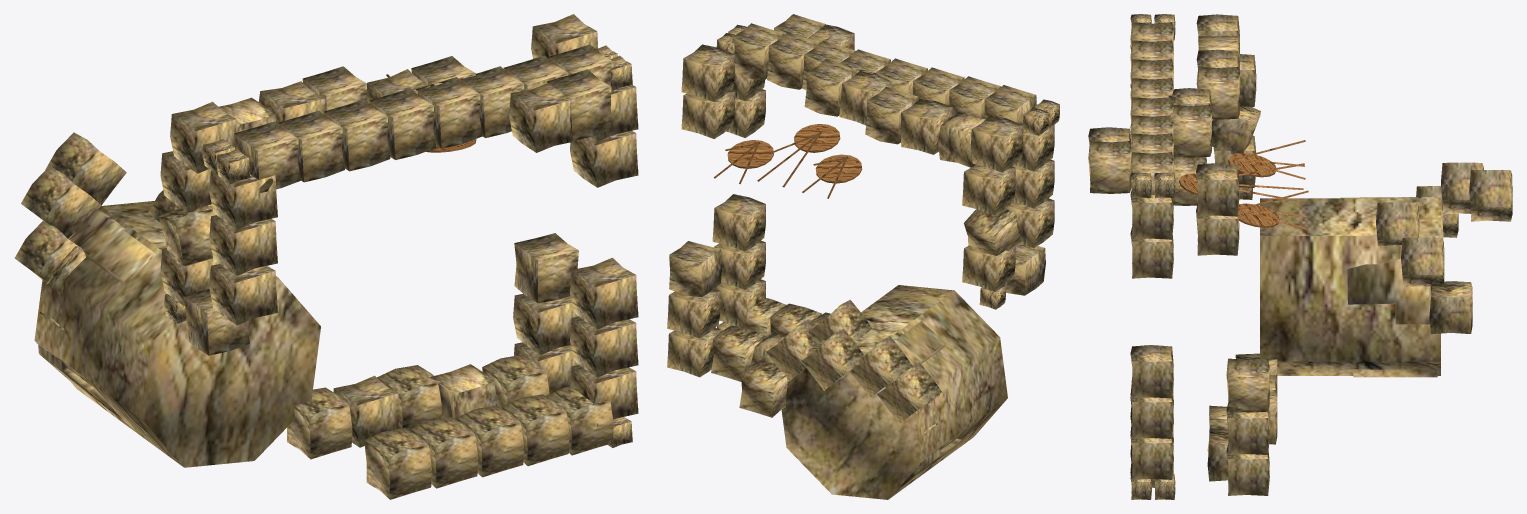
File: archery_000008.obj
The picture shows the model from 3 angles, left to right: view 1: azimuth 30°, elevation 25°; view 2: azimuth 150°, elevation 25°; view 3: azimuth 270°, elevation 25°; orthographic projection. The views are drawn at different scales.
Visible parts, largest first — view 1: Cylinder.003, Cylinder.054_Cylinder.062, Cylinder.053_Cylinder.061, Cylinder.000, Cylinder.018, Cylinder.013, Cylinder.035, Cylinder.010, Cylinder.046_Cylinder.052, Cylinder.019, Cylinder.001, Cylinder.002 (+34 smaller); view 2: Cylinder.003, Cylinder.054_Cylinder.062, Cylinder.055_Cylinder.063, Cylinder.013, Cylinder.018, Cylinder.014, Cylinder.043_Cylinder.049, Cylinder.042_Cylinder.048, Cylinder.027, Cylinder.012, Cylinder.044_Cylinder.050, Cylinder.006 (+34 smaller); view 3: Cylinder.003, Cylinder.055_Cylinder.063, Cylinder.053_Cylinder.061, Cylinder.054_Cylinder.062, Cylinder.013, Cylinder.014, Cylinder.034, Cylinder.018, Cylinder.030, Cylinder.012, Cylinder.028, Cylinder.016 (+28 smaller).
Boxes of the visible parts, left/top/right/bottom form: Cylinder.003: left=34, top=201, right=320, bottom=467; Cylinder.054_Cylinder.062: left=14, top=132, right=126, bottom=293; Cylinder.053_Cylinder.061: left=38, top=209, right=155, bottom=418; Cylinder.000: left=364, top=428, right=431, bottom=499; Cylinder.018: left=570, top=257, right=638, bottom=329; Cylinder.013: left=514, top=233, right=578, bottom=303; Cylinder.035: left=509, top=83, right=577, bottom=152; Cylinder.010: left=287, top=387, right=352, bottom=459; Cylinder.046_Cylinder.052: left=209, top=264, right=277, bottom=325; Cylinder.019: left=570, top=316, right=638, bottom=377; Cylinder.001: left=410, top=416, right=478, bottom=488; Cylinder.002: left=456, top=405, right=523, bottom=477; Cylinder.003: left=781, top=285, right=1007, bottom=499; Cylinder.054_Cylinder.062: left=801, top=329, right=941, bottom=423; Cylinder.055_Cylinder.063: left=739, top=299, right=872, bottom=417; Cylinder.013: left=669, top=241, right=722, bottom=297; Cylinder.018: left=712, top=194, right=765, bottom=251; Cylinder.014: left=681, top=44, right=734, bottom=101; Cylinder.043_Cylinder.049: left=970, top=115, right=1023, bottom=172; Cylinder.042_Cylinder.048: left=962, top=164, right=1015, bottom=215; Cylinder.027: left=901, top=99, right=952, bottom=154; Cylinder.012: left=667, top=289, right=720, bottom=338; Cylinder.044_Cylinder.050: left=964, top=208, right=1020, bottom=255; Cylinder.006: left=711, top=325, right=764, bottom=381; Cylinder.003: left=1260, top=198, right=1440, bottom=375; Cylinder.055_Cylinder.063: left=1376, top=202, right=1472, bottom=333; Cylinder.053_Cylinder.061: left=1340, top=197, right=1443, bottom=377; Cylinder.054_Cylinder.062: left=1416, top=162, right=1512, bottom=237; Cylinder.013: left=1226, top=358, right=1269, bottom=412; Cylinder.014: left=1196, top=163, right=1239, bottom=216; Cylinder.034: left=1088, top=141, right=1131, bottom=193; Cylinder.018: left=1130, top=345, right=1173, bottom=398; Cylinder.030: left=1170, top=104, right=1211, bottom=157; Cylinder.012: left=1226, top=403, right=1269, bottom=454; Cylinder.028: left=1196, top=66, right=1239, bottom=119; Cylinder.016: left=1130, top=191, right=1173, bottom=239.
Bounding box in the file's own units: 9.16 × 7.81 × 9.2.
